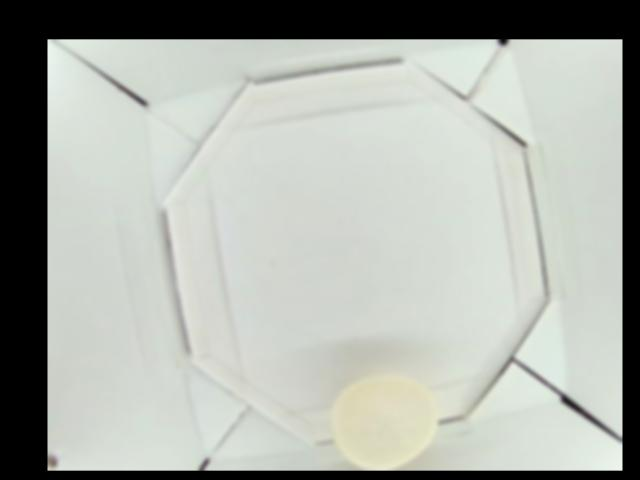Mooli: (329, 378, 439, 470)
